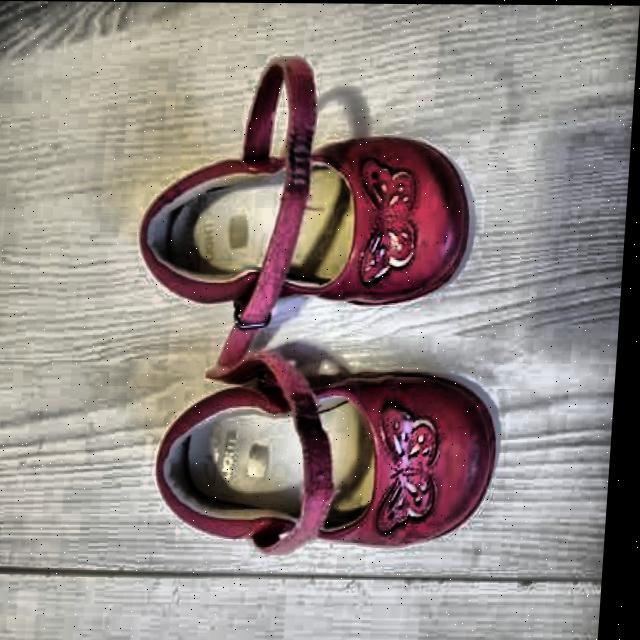shoes: (117, 58, 504, 571)
